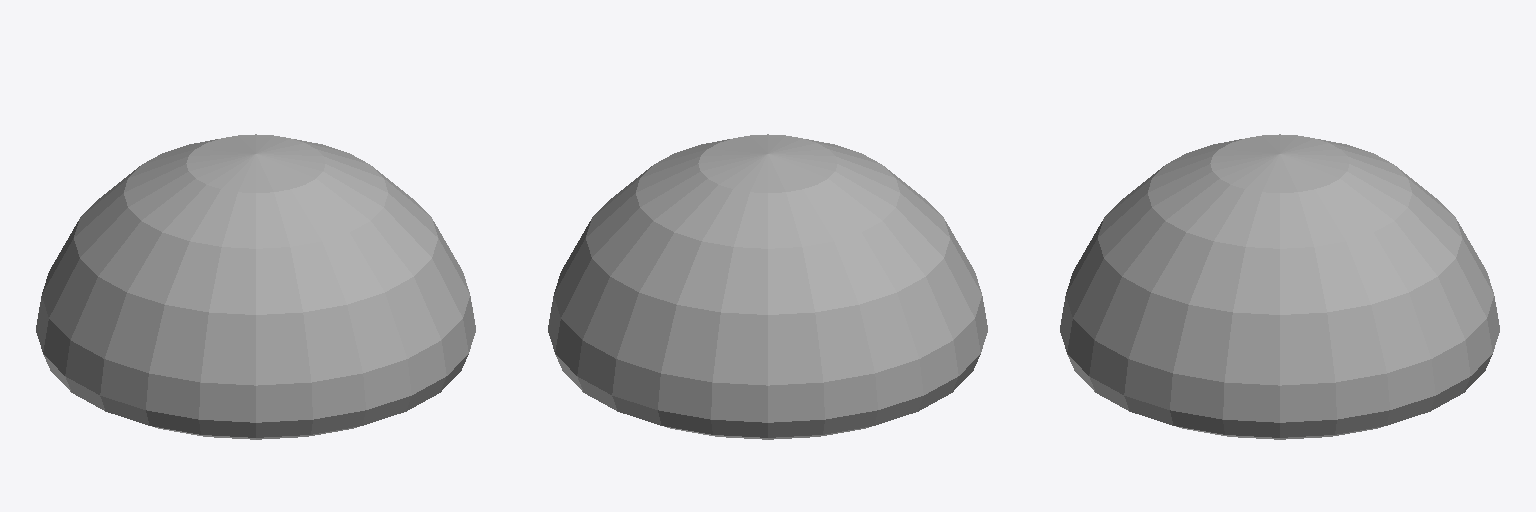
File: CityHall_080828g.obj
The picture shows the model from 3 angles: view 1: azimuth 30°, elevation 25°; view 2: azimuth 150°, elevation 25°; view 3: azimuth 270°, elevation 25°; orthographic projection.
Visible parts, largest first — view 1: 6.5.2007.0829; view 2: 6.5.2007.0829; view 3: 6.5.2007.0829.
Boxes of the visible parts, <box> form: 6.5.2007.0829: <box>36,134,475,439</box>; 6.5.2007.0829: <box>548,134,987,439</box>; 6.5.2007.0829: <box>1060,134,1499,439</box>.
Size of the model in its own units: 196 by 100 by 196.